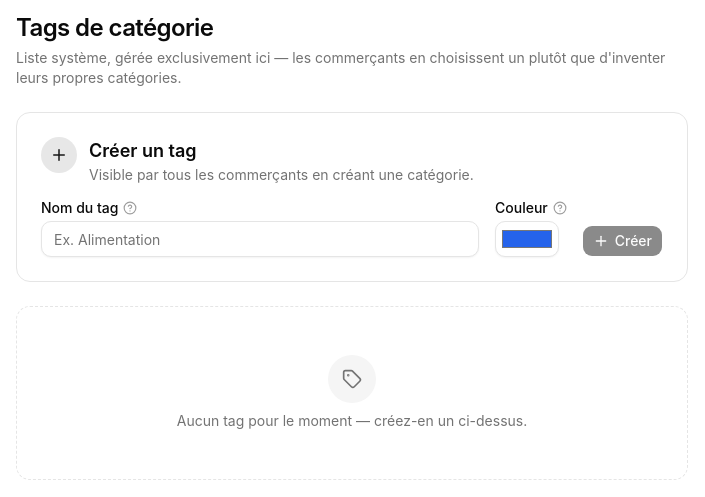
Scenario: CategoryTagsPageContent › creates a tag and appends it to the list
Check: the text "Aucun tag pour le moment — créez-en un ci-dessus." is shown, box [177,411,527,431]
Step 1. Type "Électronique" into the field labelled "Nom du tag" → (260, 239), box [41,221,479,257]
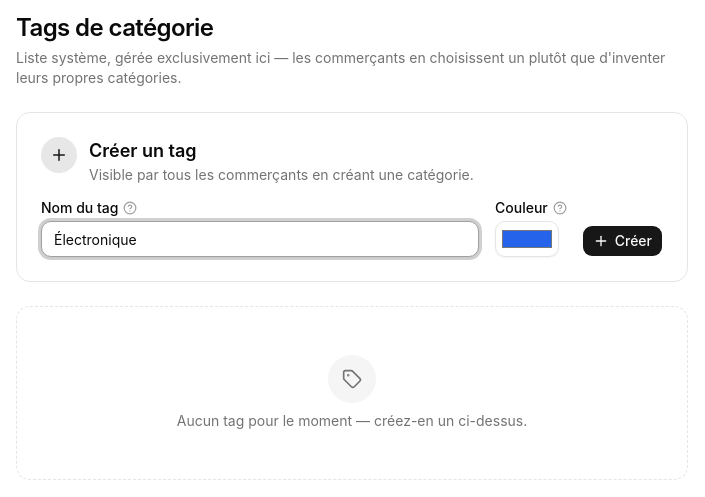
Step 2. Click the button "Créer" → (622, 241), box [582,225,663,257]
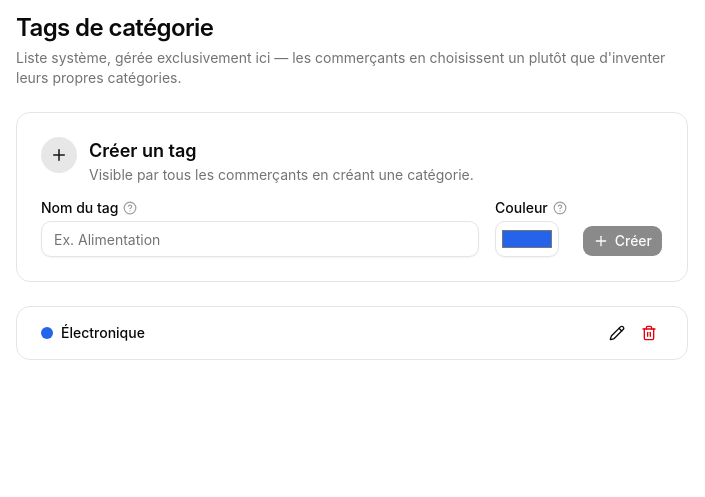
Check: the text "Électronique" is shown, box [41,323,145,343]
